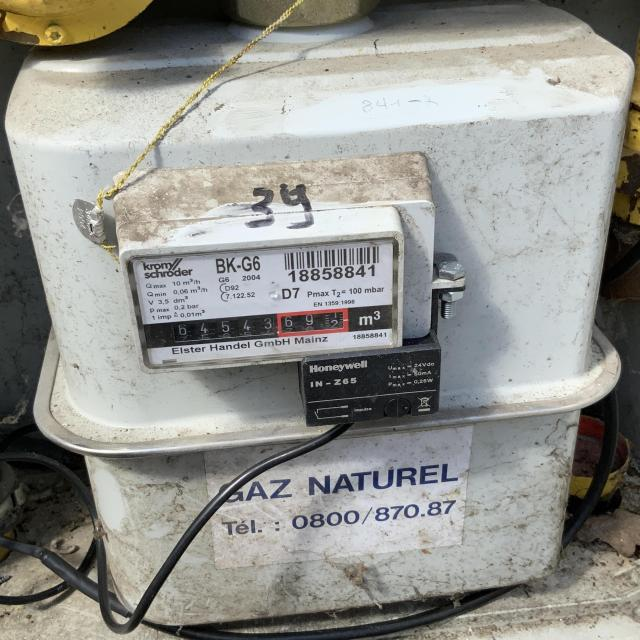gaz_meter: (125, 240, 399, 369)
indication: (143, 307, 350, 349)
